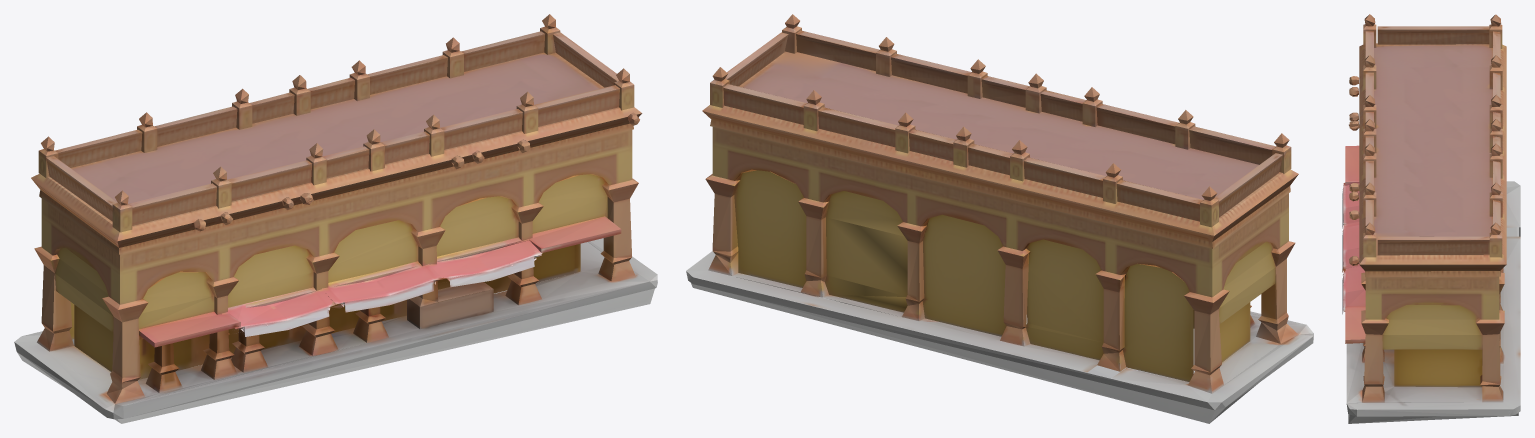
File: MercadoP.glb
The picture shows the model from 3 angles, left to right: view 1: azimuth 30°, elevation 25°; view 2: azimuth 150°, elevation 25°; view 3: azimuth 270°, elevation 25°; orthographic projection. The views are drawn at different scales.
Parts seen in each view (by area): view 1: LoricaCC; view 2: LoricaCC; view 3: LoricaCC.
Part boxes in pixels (x1=…): LoricaCC: x1=14, y1=14, x2=657, y2=423; LoricaCC: x1=686, y1=14, x2=1313, y2=423; LoricaCC: x1=1342, y1=14, x2=1520, y2=423.
Size of the model in its own units: 2.75 by 1.1 by 0.9027.
1 material, 1 textured.
